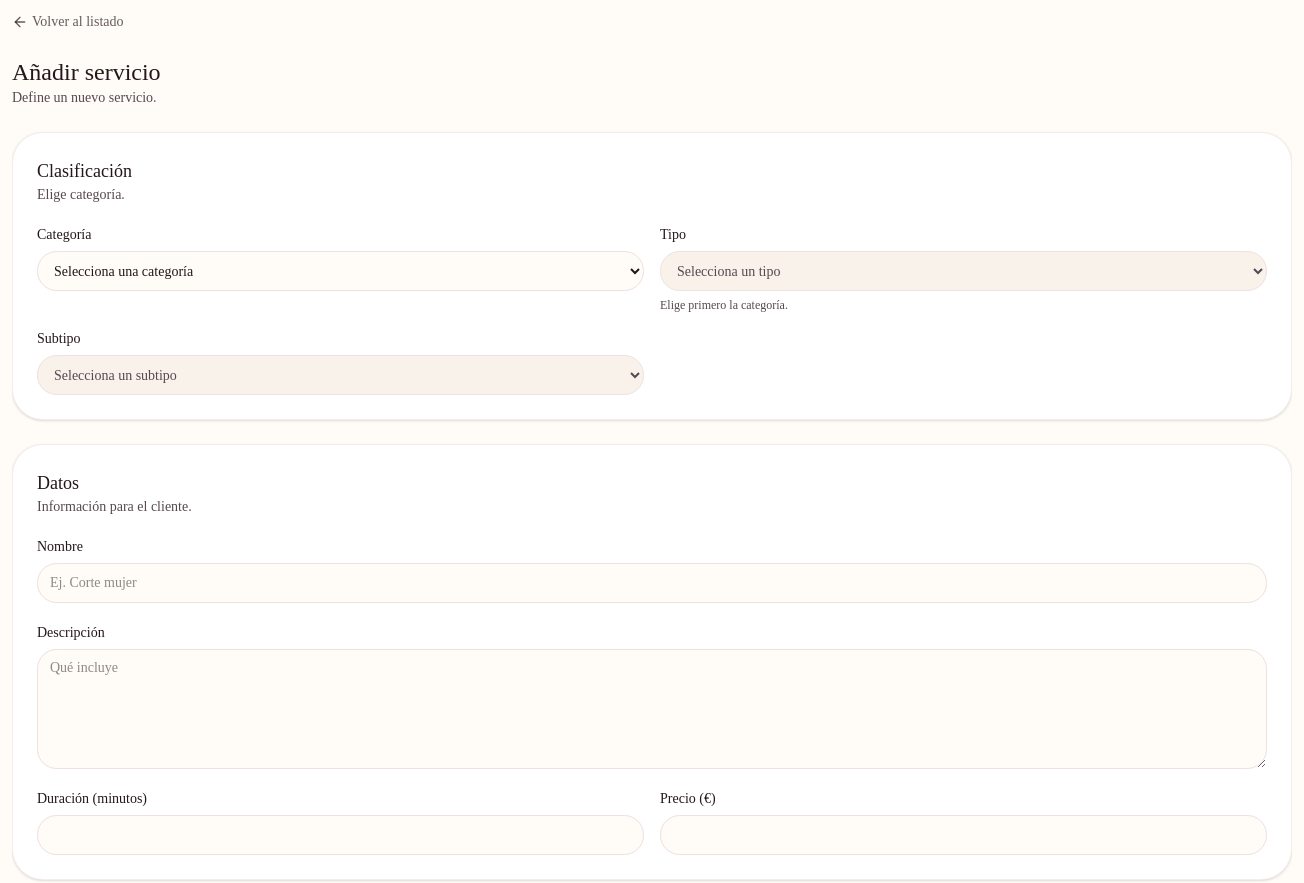
Scenario: AddServiceForm › habilita subtipos solo cuando el tipo está seleccionado
Select "Belleza" in the dropdown labelled "Categoría". click: [340, 271]
box: [37,251,644,291]
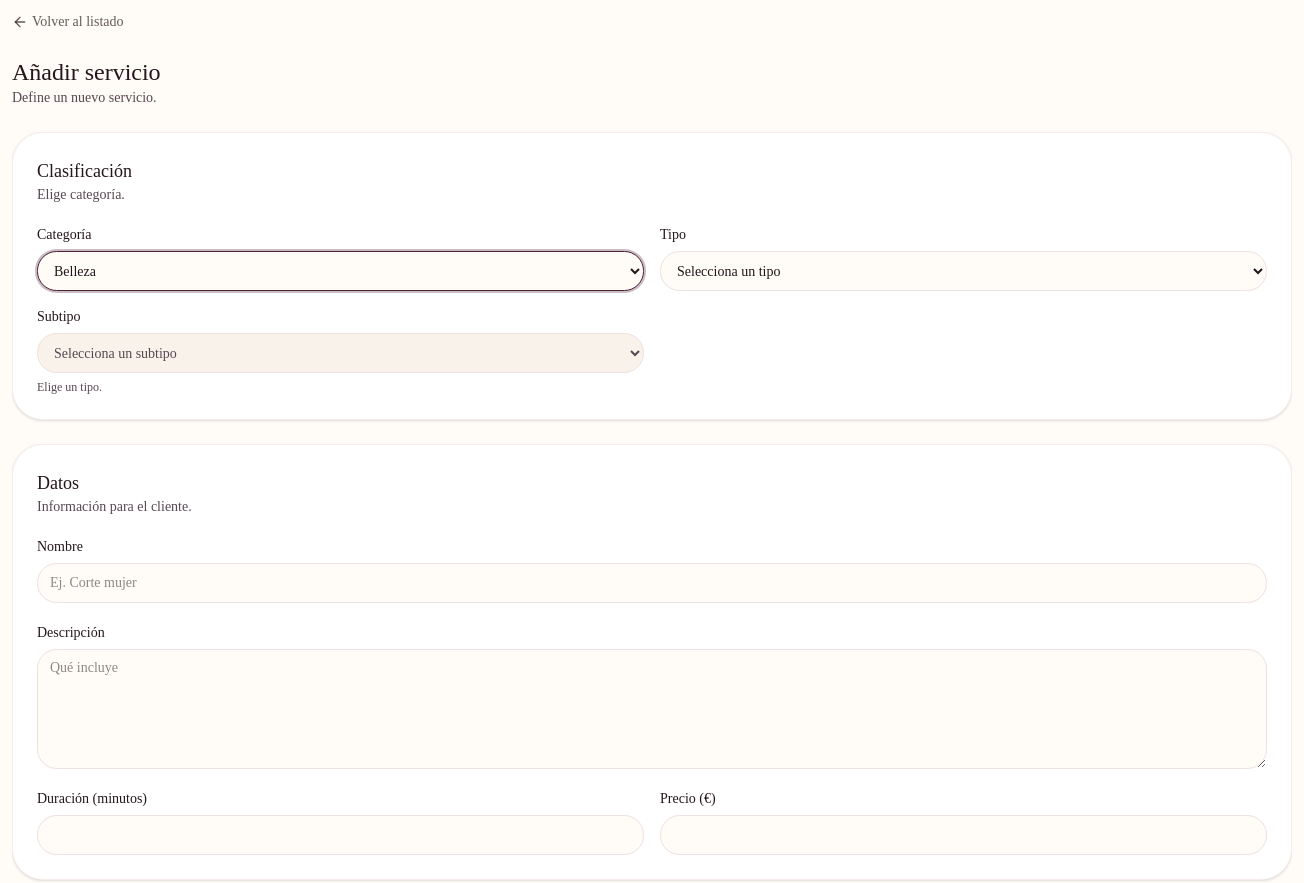
Select "Peluquería" in the dropdown labelled "Tipo". click: [964, 271]
box: [660,251,1267,291]
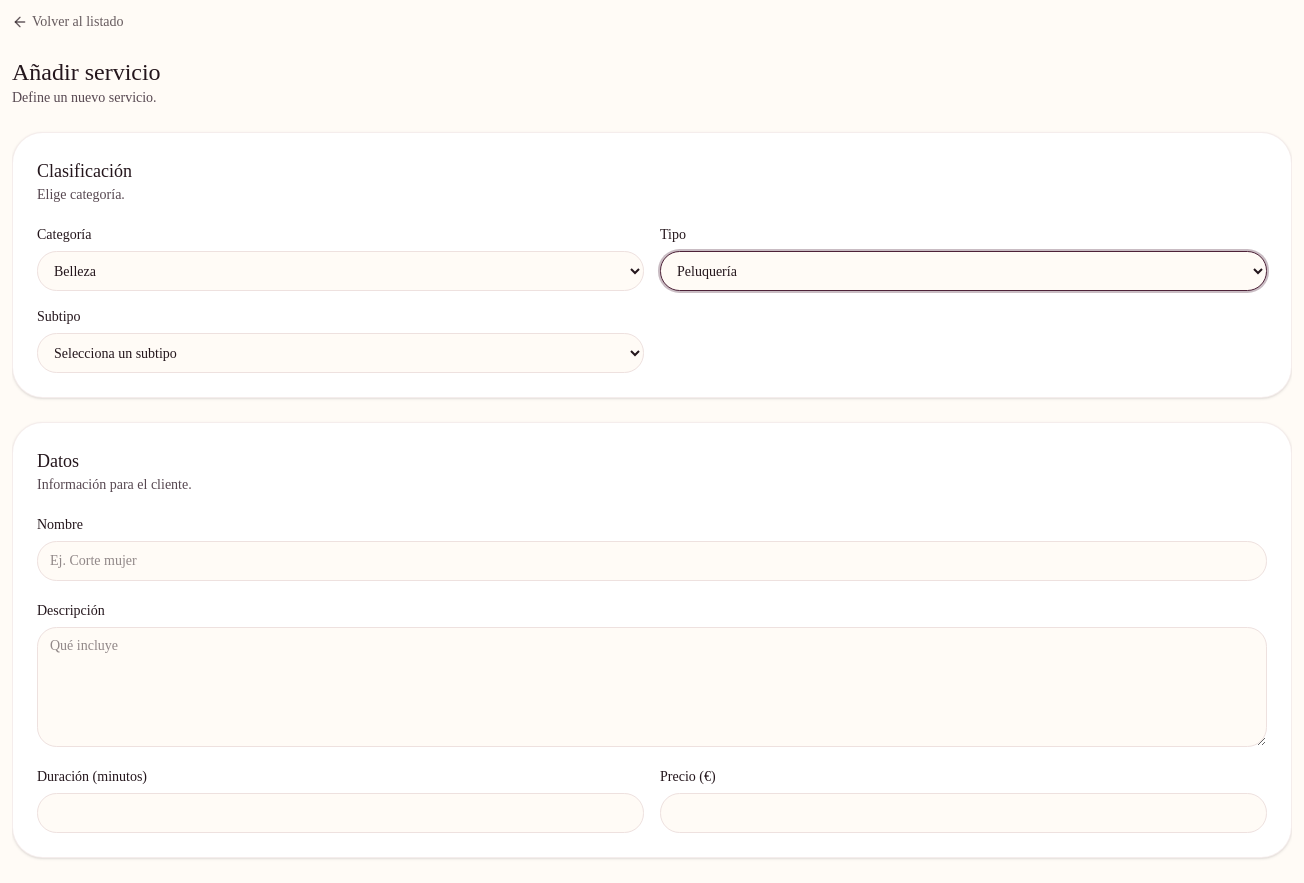
Expected: the dropdown labelled "Subtipo" is enabled, [37,333,644,373]
